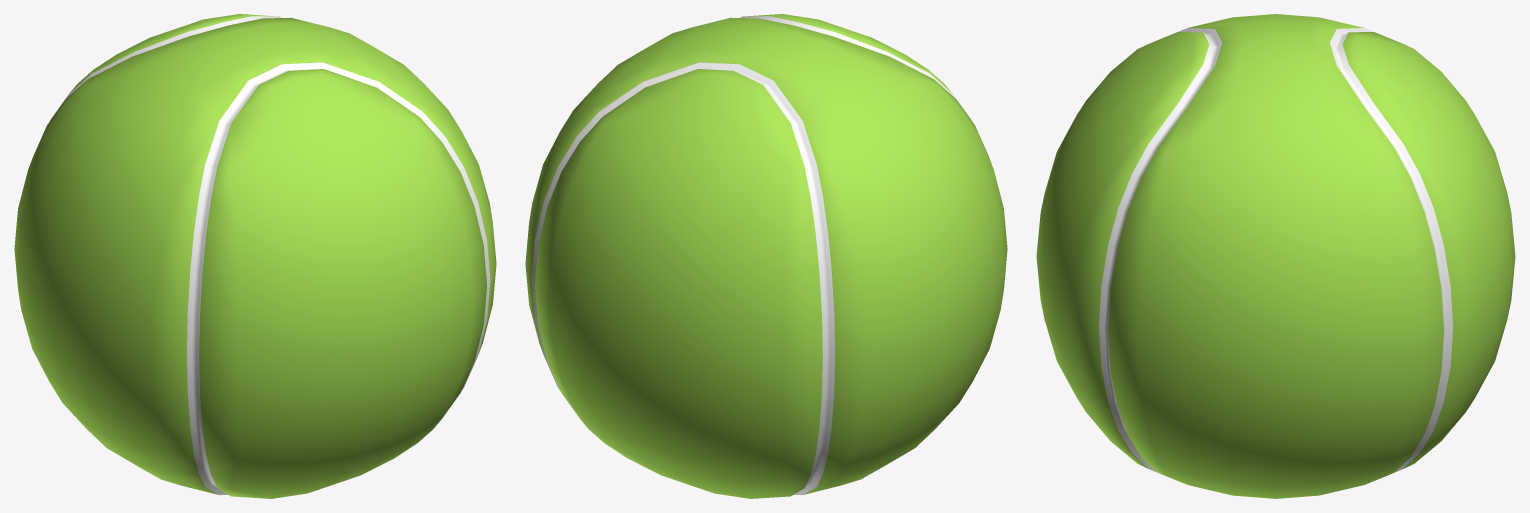
Rendered from tennis ball rec2.0.fbx.
The picture shows the model from 3 angles, left to right: view 1: azimuth 30°, elevation 25°; view 2: azimuth 150°, elevation 25°; view 3: azimuth 270°, elevation 25°; orthographic projection.
Parts seen in each view (by area): view 1: Cube; view 2: Cube; view 3: Cube.
Part boxes in pixels (x1=…): Cube: x1=14, y1=14, x2=496, y2=498; Cube: x1=525, y1=14, x2=1007, y2=498; Cube: x1=1036, y1=14, x2=1515, y2=498.
Bounding box in the file's own units: 1.6 × 1.61 × 1.6.
